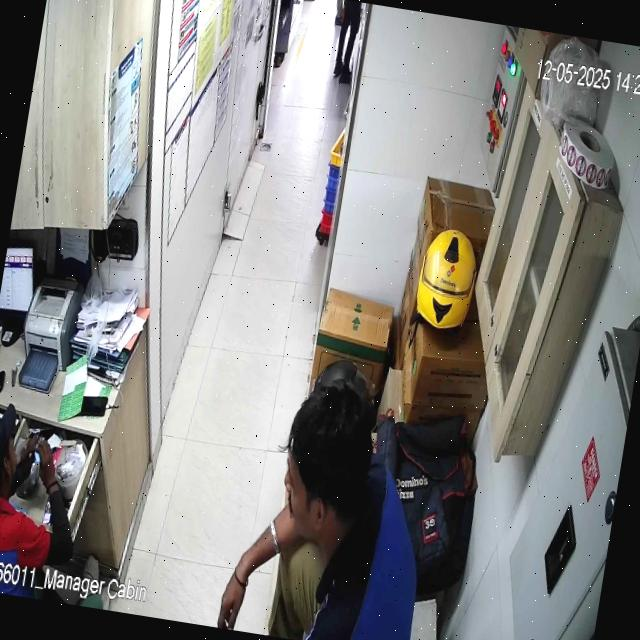helmet: (417, 228, 476, 328)
